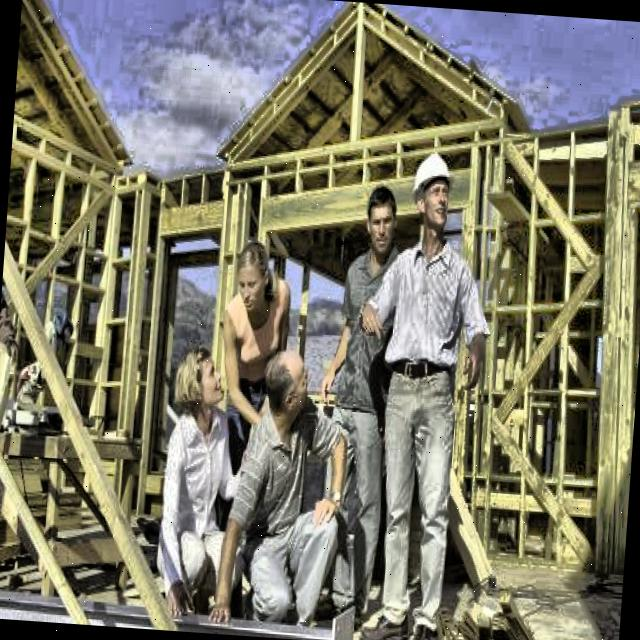helmet: (408, 150, 462, 234)
